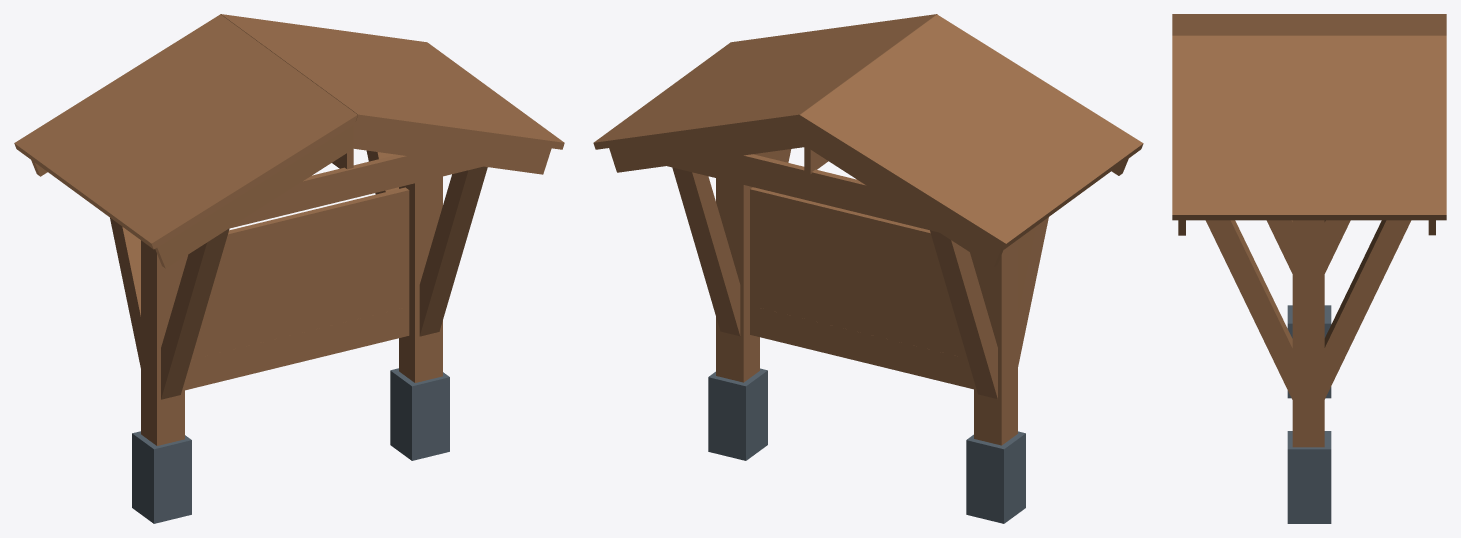
File: MapStructure.glb
The picture shows the model from 3 angles, left to right: view 1: azimuth 30°, elevation 25°; view 2: azimuth 150°, elevation 25°; view 3: azimuth 270°, elevation 25°; orthographic projection.
Parts seen in each view (by area): view 1: RightCorner.002, Sign.015, cement left, cement right; view 2: RightCorner.002, Sign.015, cement right, cement left; view 3: RightCorner.002, cement right, cement left.
Boxes of the visible parts, box(x1,y1,x2,y2) form: RightCorner.002: box(14, 14, 564, 445); Sign.015: box(185, 187, 409, 390); cement left: box(132, 431, 191, 523); cement right: box(390, 368, 449, 460); RightCorner.002: box(593, 14, 1143, 445); Sign.015: box(750, 187, 973, 389); cement right: box(708, 368, 767, 460); cement left: box(966, 431, 1025, 523); RightCorner.002: box(1172, 14, 1446, 447); cement right: box(1287, 431, 1331, 523); cement left: box(1287, 305, 1331, 398).
Size of what is drawn, in the model's own units: 5.11 by 4.92 by 2.95.
